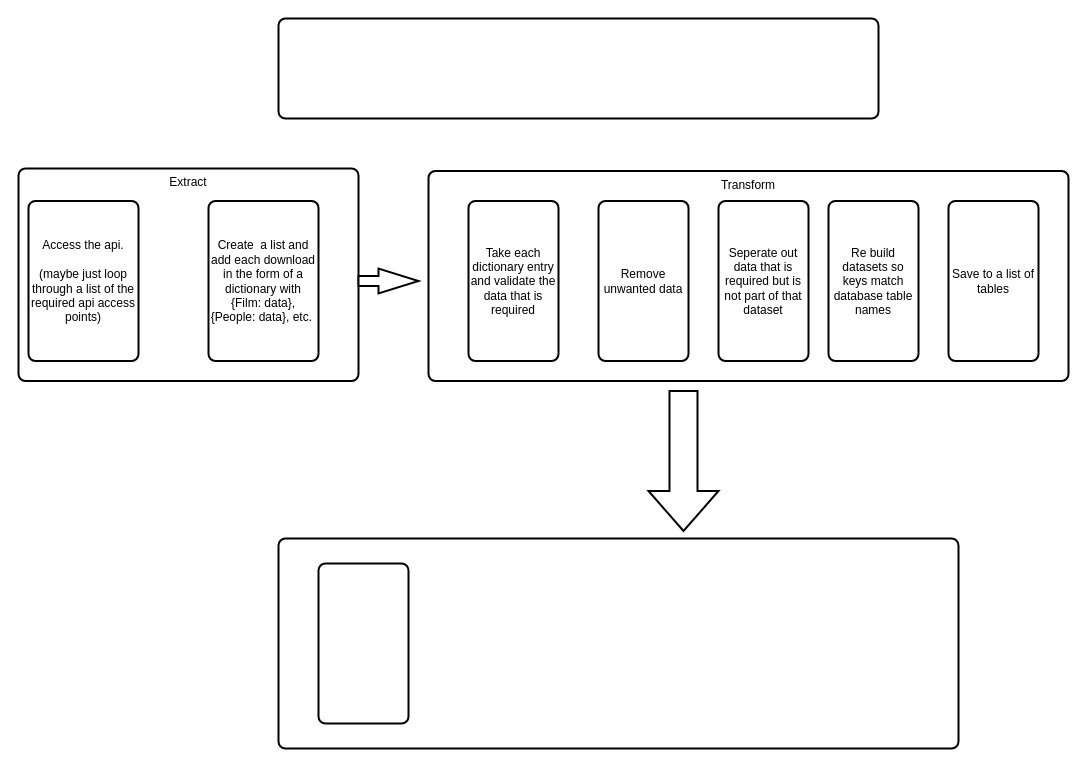
Some shapes in this 1086 by 766 pixel diagram are drawn without their labels. The centre of each missing label's shape, as x and y in pixels:
Recieve List of Tables: the point at 363,643
Simple Workflow Diagram: the point at 578,68
